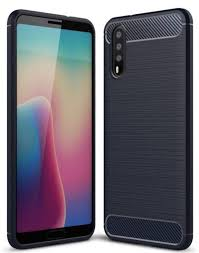huawei: (103, 8, 193, 249), (6, 8, 96, 249)
